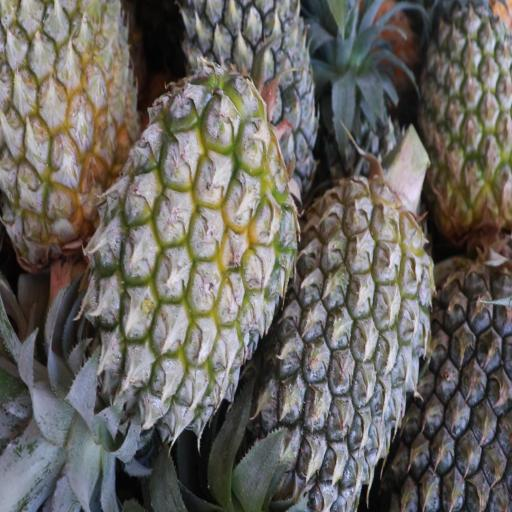------------------------------: (99, 94, 283, 432), (0, 0, 151, 260), (420, 0, 512, 229)
